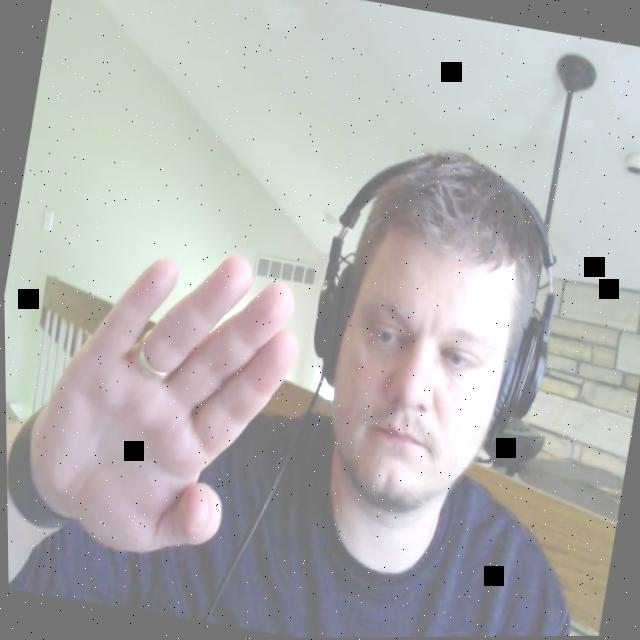Paper: (3, 218, 321, 596)
